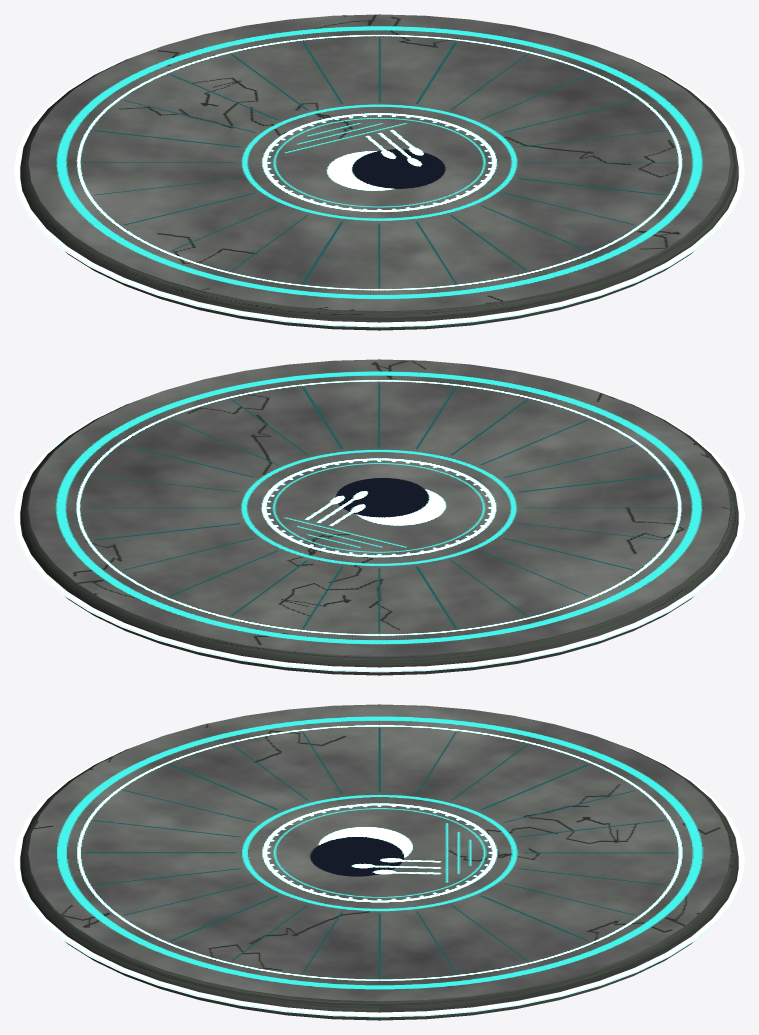
Rendered from dais_t.glb.
3 views of the same model, one above another, from view 1: azimuth 30°, elevation 25°; view 2: azimuth 150°, elevation 25°; view 3: azimuth 270°, elevation 25° (orthographic).
Parts seen in each view (by area): view 1: dais; view 2: dais; view 3: dais.
Boxes of the visible parts, box(x1,y1,x2,y2) form: dais: box(14, 14, 744, 330); dais: box(14, 359, 744, 675); dais: box(14, 704, 744, 1020).
Size of the model in its own units: 9.16 by 0.22 by 9.16.
Materials: 3 (2 with a texture image).
